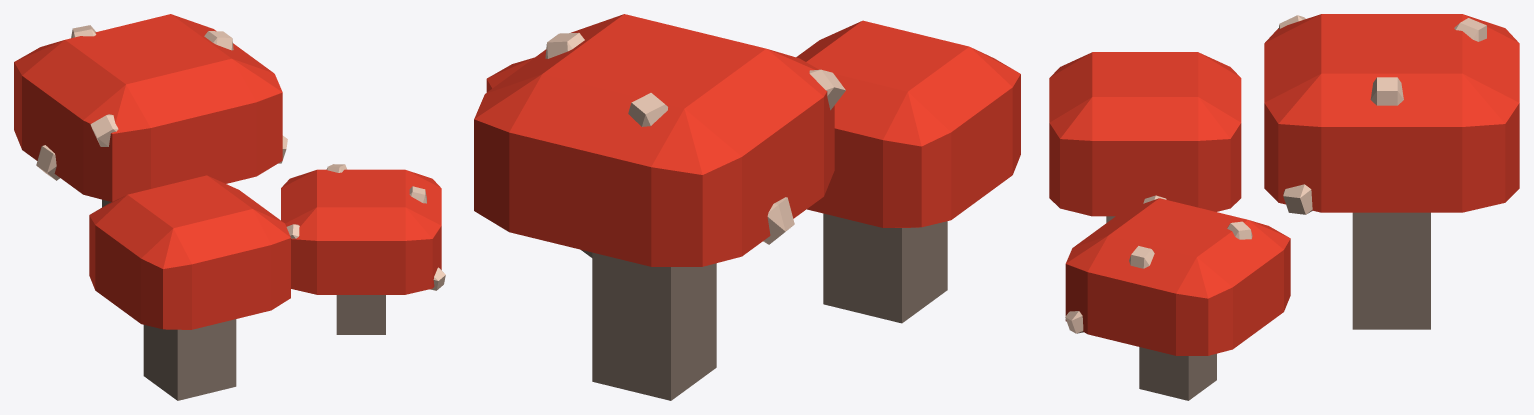
File: SM_Mushroom_01_D.fbx
The picture shows the model from 3 angles, left to right: view 1: azimuth 30°, elevation 25°; view 2: azimuth 150°, elevation 25°; view 3: azimuth 270°, elevation 25°; orthographic projection. The views are drawn at different scales.
Parts seen in each view (by area): view 1: pCube473; view 2: pCube473; view 3: pCube473.
Boxes of the visible parts, bbox=[...] form: pCube473: bbox=[14, 14, 445, 400]; pCube473: bbox=[474, 14, 1020, 400]; pCube473: bbox=[1049, 14, 1519, 400].
Size of the model in its own units: 22.69 by 15.42 by 23.43.
